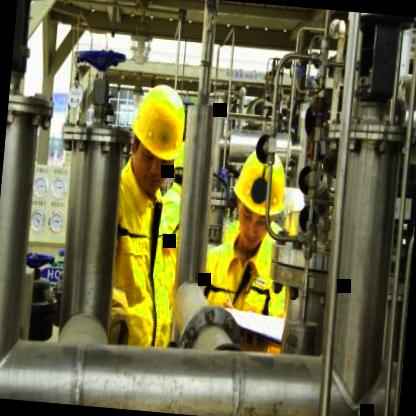helmet: (120, 74, 197, 204), (228, 142, 294, 257)
